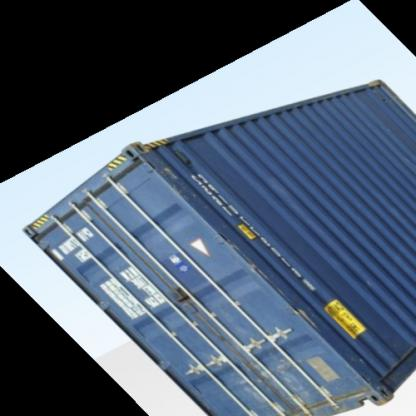Damage: (248, 350, 308, 415), (154, 155, 198, 214)
